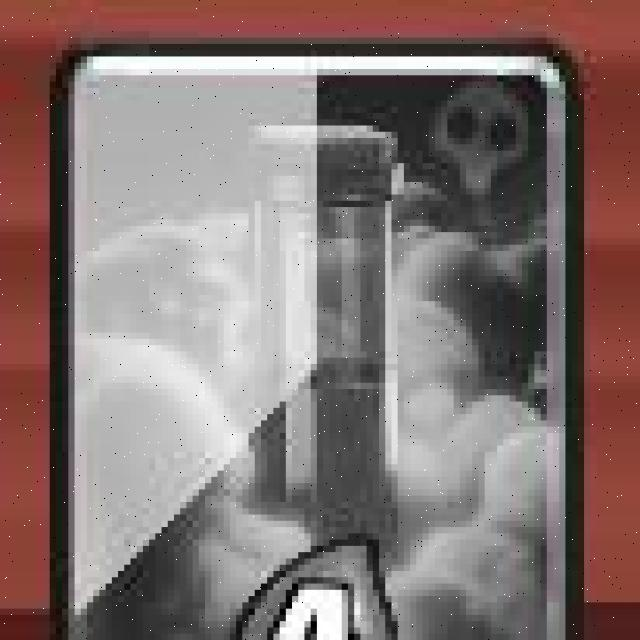Poison: (66, 49, 571, 640)
